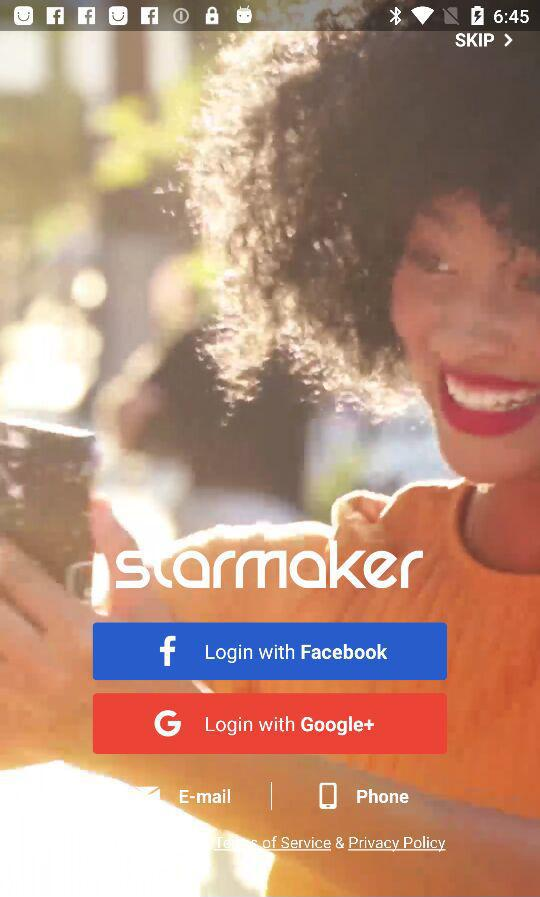BackgroundImage: (1, 32, 540, 897)
Image: (116, 541, 423, 589), (319, 783, 338, 810)
Text: (213, 836, 447, 853), (454, 32, 513, 49), (357, 788, 408, 804), (180, 788, 231, 804)
TextButton: (93, 693, 448, 755), (93, 623, 447, 681)
UpperTaskBar: (1, 1, 540, 32)
